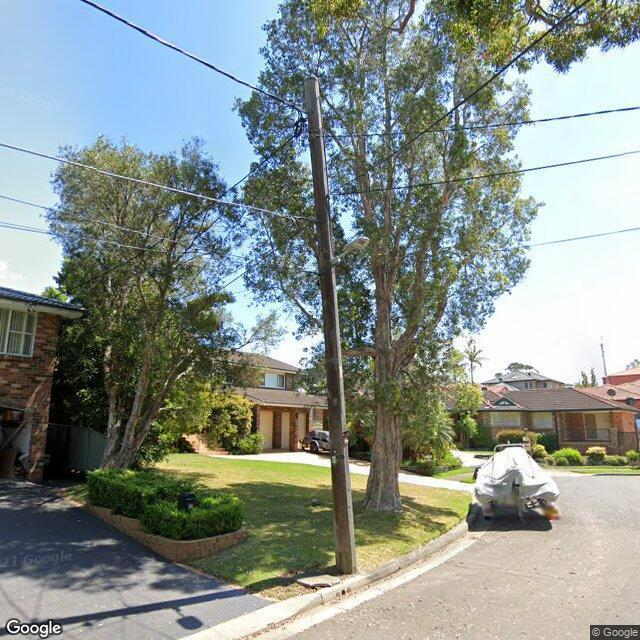streetlight: (332, 235, 369, 264)
timber-pole: (304, 76, 358, 574)
